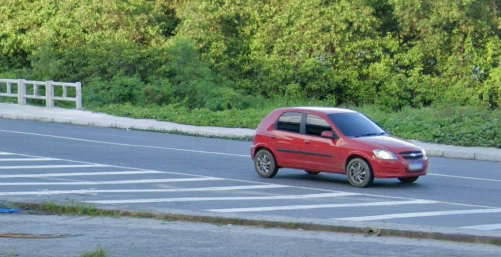car: (248, 103, 433, 193)
